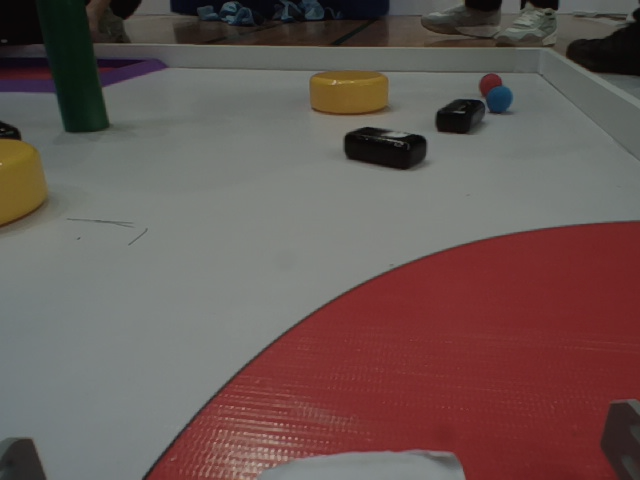black: (337, 118, 438, 177), (437, 92, 488, 143), (1, 118, 30, 142)
blue: (487, 86, 515, 112)
kuang: (1, 52, 184, 99)
red: (473, 67, 513, 99)
yellow: (299, 63, 398, 117), (1, 137, 59, 229)
zhuzi: (37, 1, 118, 142)
